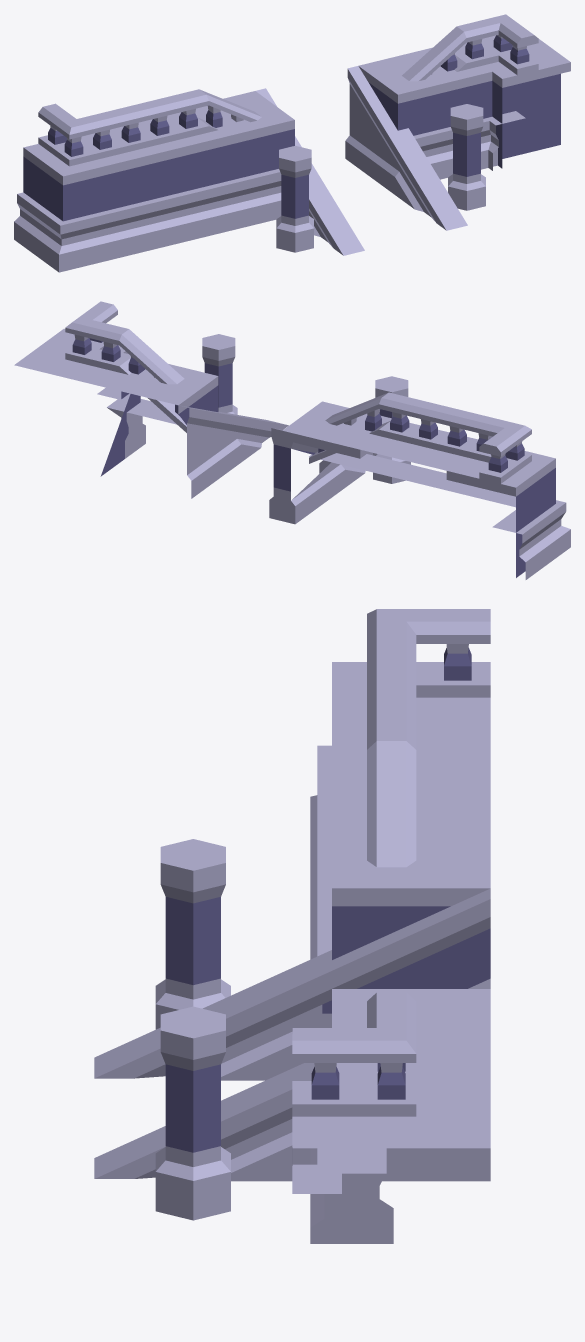
File: dungeon_walls_full.glb
The picture shows the model from 3 angles, top to bottom: view 1: azimuth 30°, elevation 25°; view 2: azimuth 150°, elevation 25°; view 3: azimuth 270°, elevation 25°; orthographic projection. The views are drawn at different scales.
Parts seen in each view (by area): view 1: dungeon_outer, dungeon_ramp_upper_right, dungeon_side, dungeon_inner, dungeon_ramp_upper_left, dungeon_ramp_lower_right, dungeon_ramp_lower_left; view 2: dungeon_outer, dungeon_ramp_upper_right, dungeon_ramp_upper_left, dungeon_inner, dungeon_side, dungeon_ramp_lower_right, dungeon_ramp_lower_left; view 3: dungeon_ramp_upper_left, dungeon_inner, dungeon_ramp_lower_right, dungeon_ramp_lower_left, dungeon_ramp_upper_right, dungeon_side, dungeon_outer.
Boxes of the visible parts, <box> form: dungeon_outer: <box>14,103,137,272</box>; dungeon_ramp_upper_right: <box>345,26,475,194</box>; dungeon_side: <box>109,89,222,253</box>; dungeon_inner: <box>455,14,570,170</box>; dungeon_ramp_upper_left: <box>195,88,315,232</box>; dungeon_ramp_lower_right: <box>395,104,485,230</box>; dungeon_ramp_lower_left: <box>276,145,364,255</box>; dungeon_outer: <box>446,413,570,579</box>; dungeon_ramp_upper_right: <box>101,329,241,498</box>; dungeon_ramp_upper_left: <box>269,392,403,524</box>; dungeon_inner: <box>14,301,145,476</box>; dungeon_side: <box>360,392,483,496</box>; dungeon_ramp_lower_right: <box>202,334,288,462</box>; dungeon_ramp_lower_left: <box>319,376,410,487</box>; dungeon_ramp_upper_left: <box>292,741,490,1067</box>; dungeon_inner: <box>292,992,490,1227</box>; dungeon_ramp_lower_right: <box>94,1006,292,1220</box>; dungeon_ramp_lower_left: <box>94,839,292,1080</box>; dungeon_ramp_upper_right: <box>292,978,490,1243</box>; dungeon_side: <box>310,657,490,956</box>; dungeon_outer: <box>310,609,490,872</box>.
Size of the model in its own units: 5.91 by 1.4 by 2.
